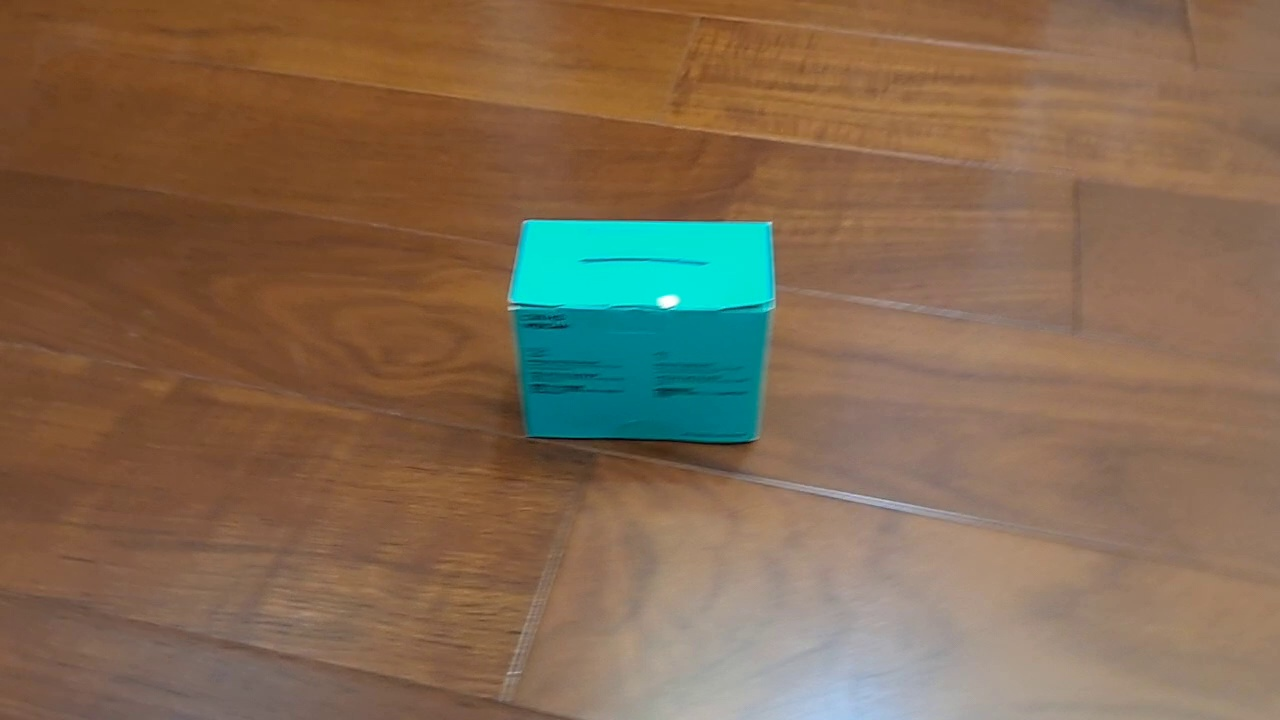webcam: (503, 214, 778, 447)
